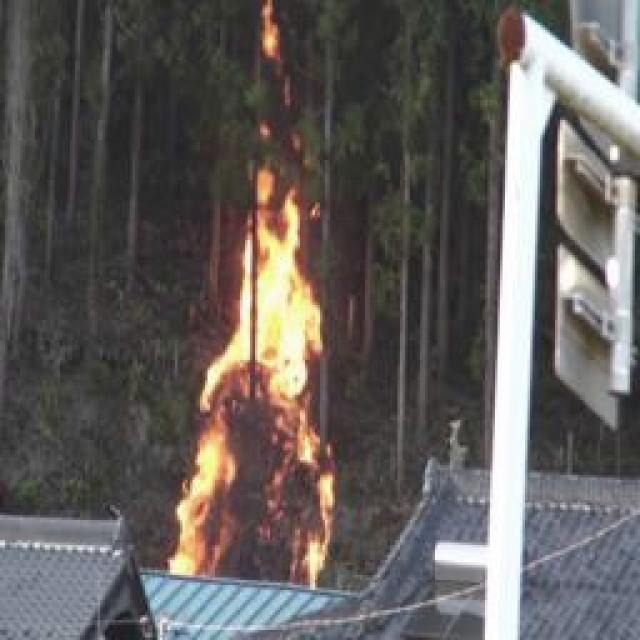Fire: (184, 181, 332, 586)
